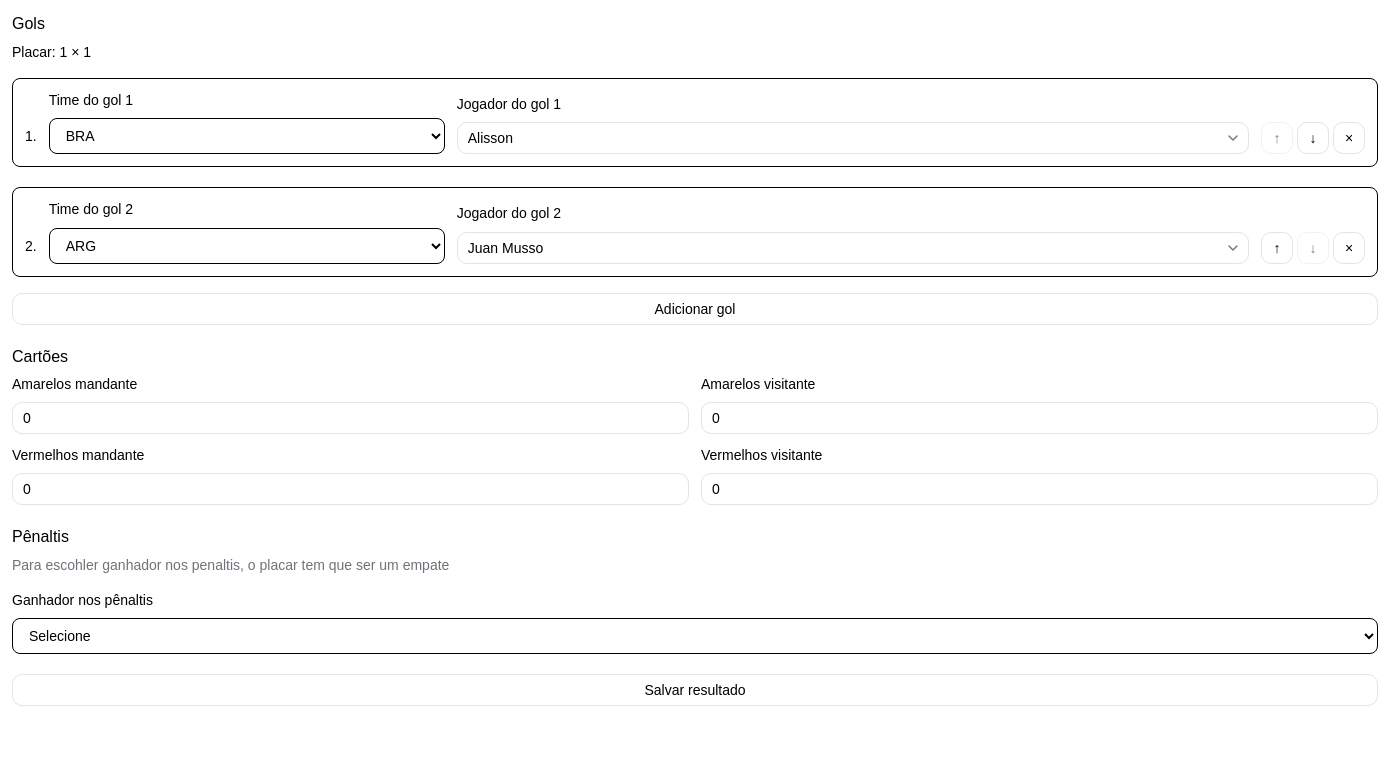
Scenario: ResultEditor › reorders and removes goals while preserving their selections
Check: the button named "Mover gol 1 para cima" is disabled, box [1261,122,1293,154]
Check: the button named "Mover gol 2 para baixo" is disabled, box [1297,232,1329,264]
Click the button named "Mover gol 2 para cima" at (1277, 248), box [1261,232,1293,264]
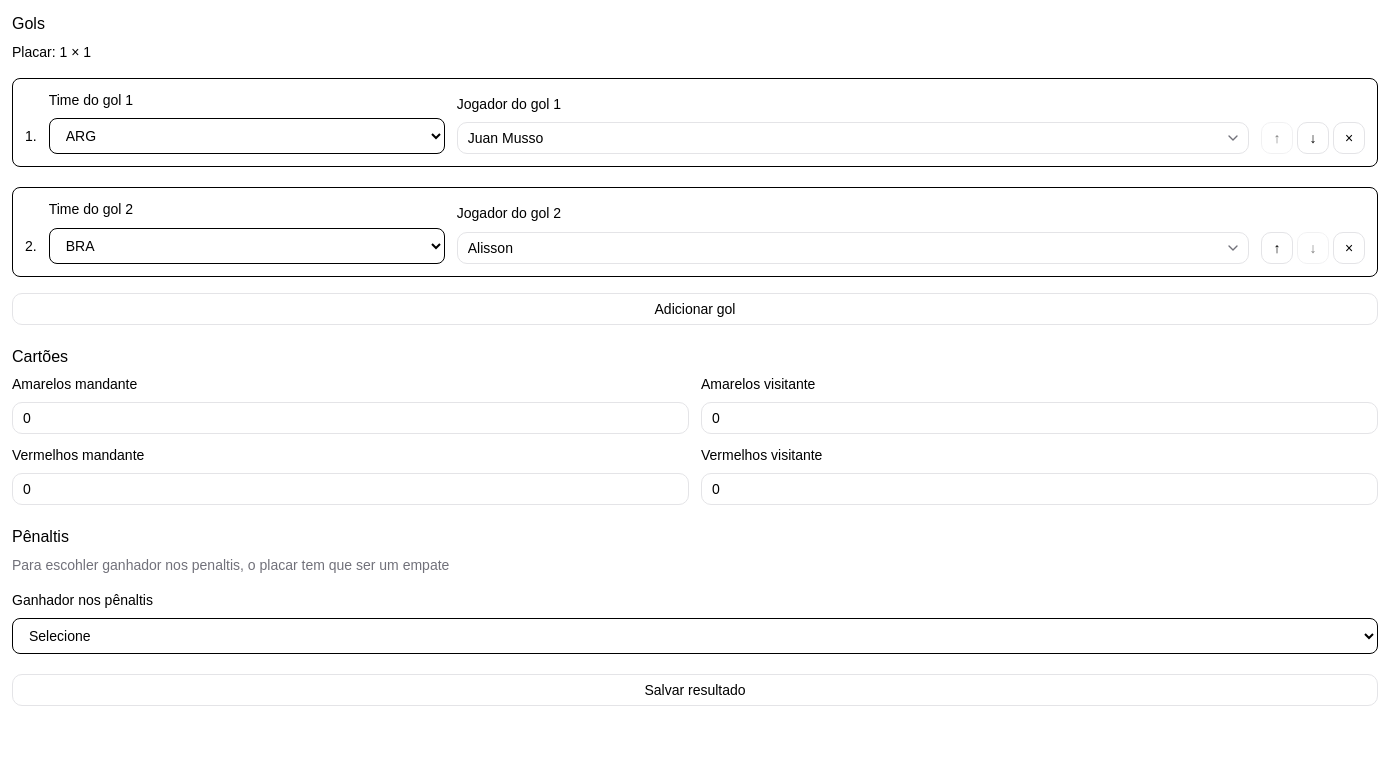
Check: the dropdown labelled "Jogador do gol 1" holds "Juan Musso", box [458,122,1221,154]
Click the button named "Remover gol 1" at (1349, 138), box [1333,122,1365,154]
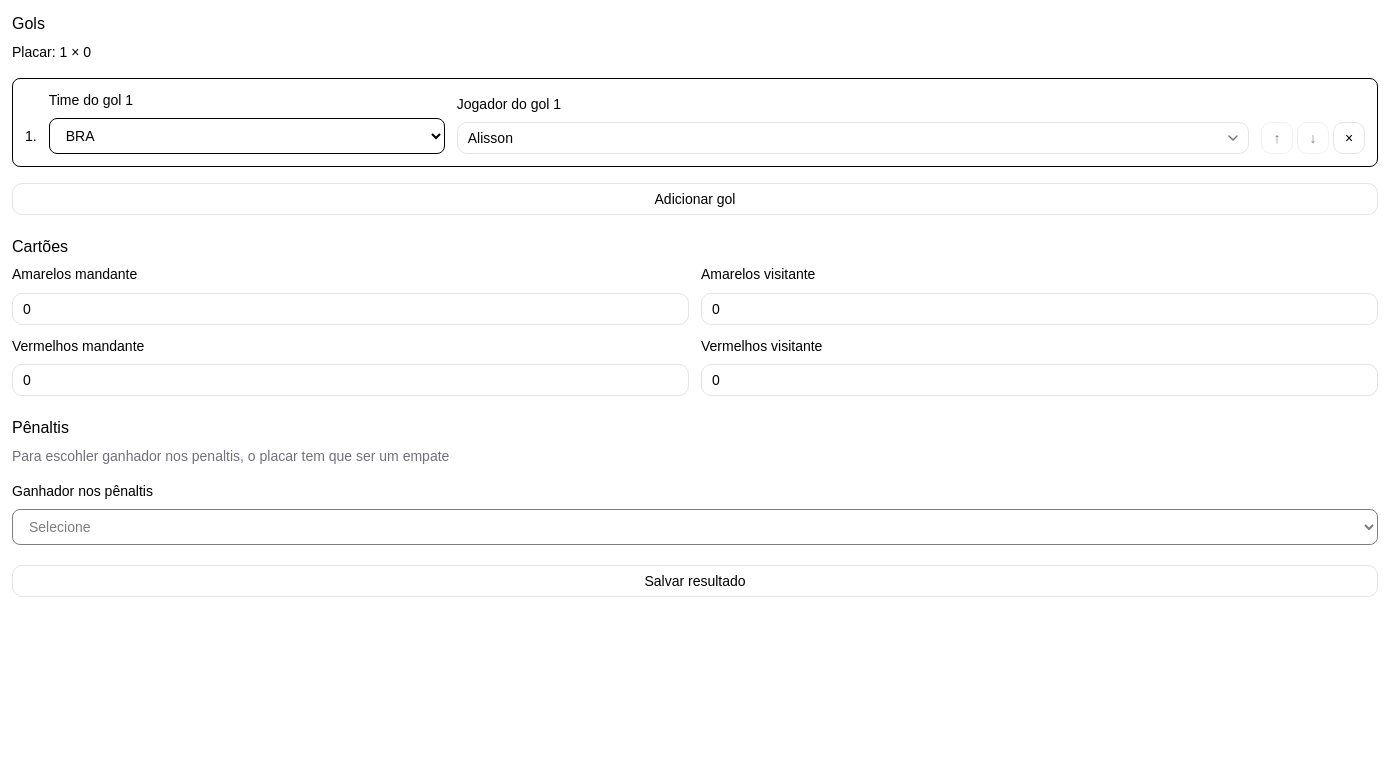
Check: the number of dropdowns labelled "Jogador do gol 1" is 1, box [458,122,1221,154]
Check: the text "Placar: 1 × 0" is shown, box [12,44,91,60]
